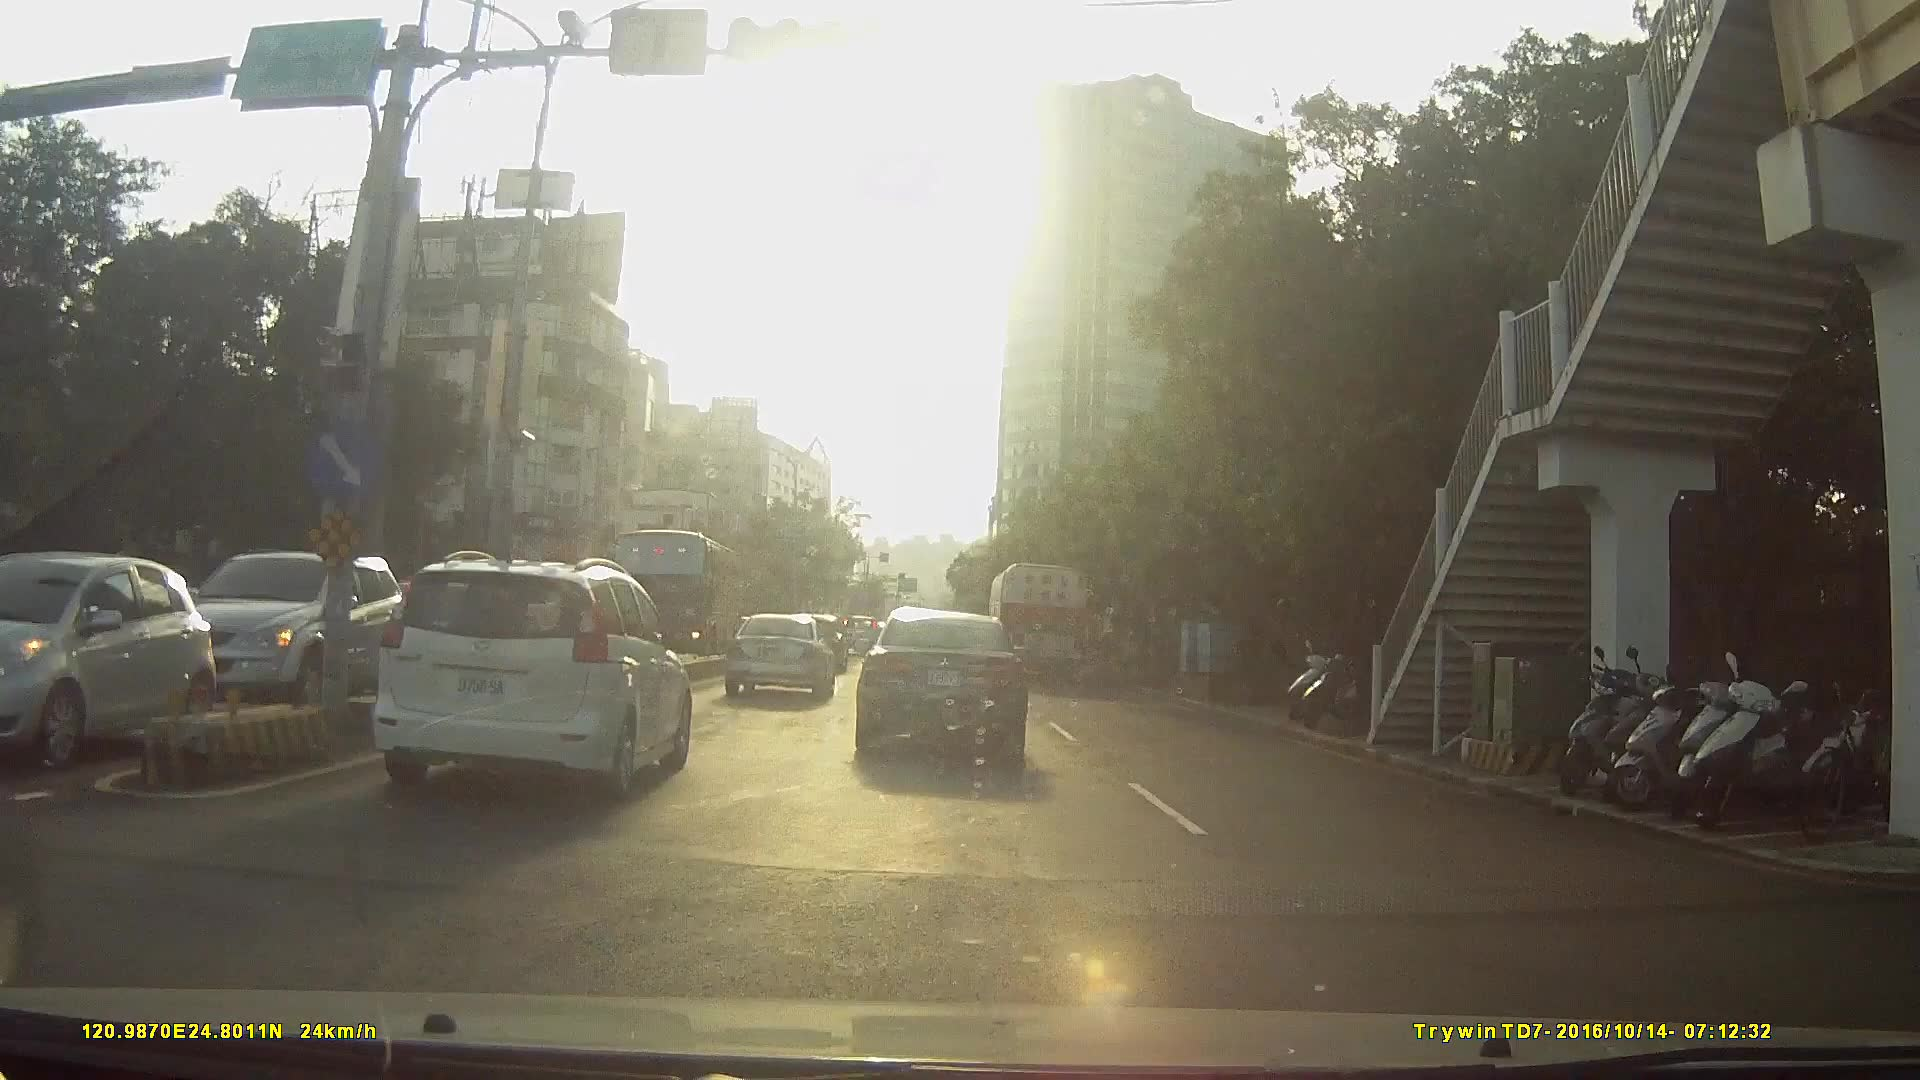vehicle: (251, 556, 684, 868), (372, 549, 694, 802), (140, 541, 433, 724), (0, 546, 173, 770), (855, 603, 1029, 771), (604, 526, 742, 659), (986, 562, 1092, 691), (725, 615, 836, 705), (836, 615, 884, 658)
